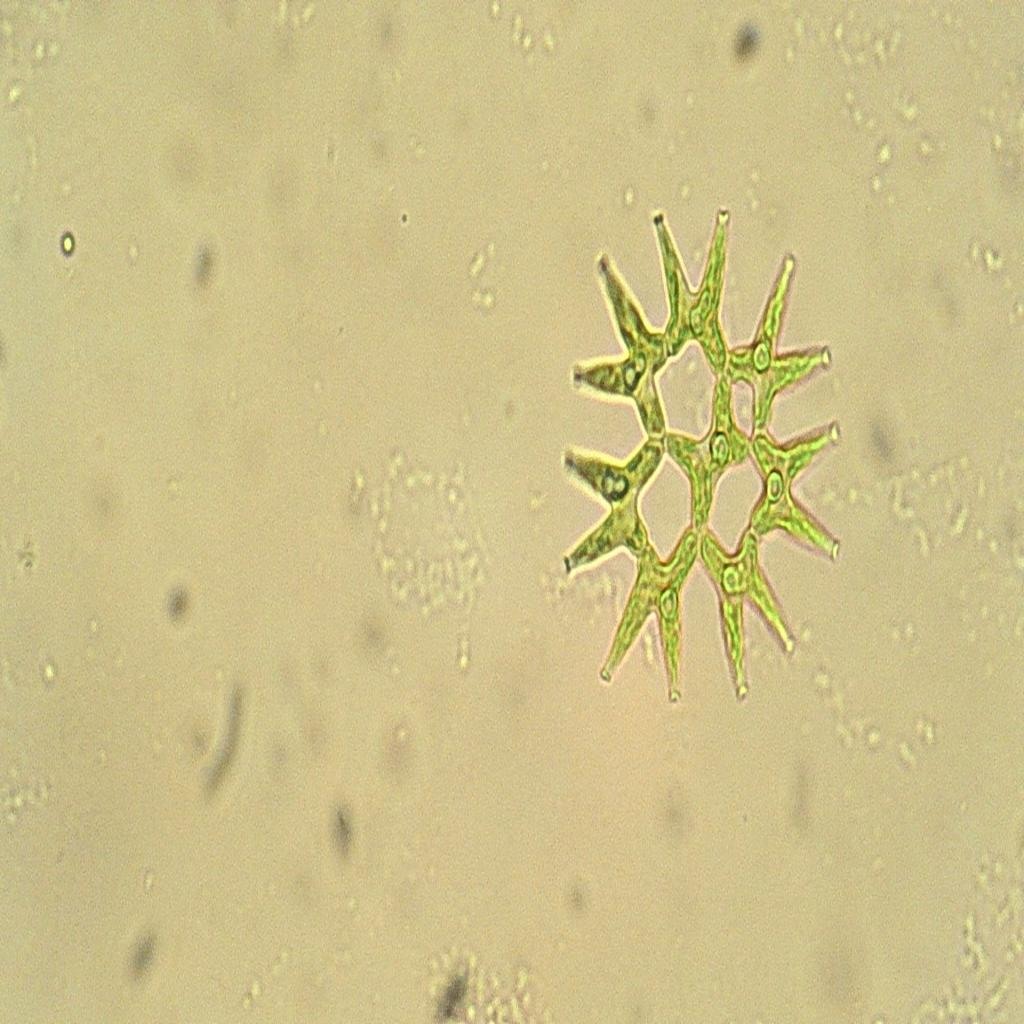Pediastrum_75T: (550, 166, 854, 724)
